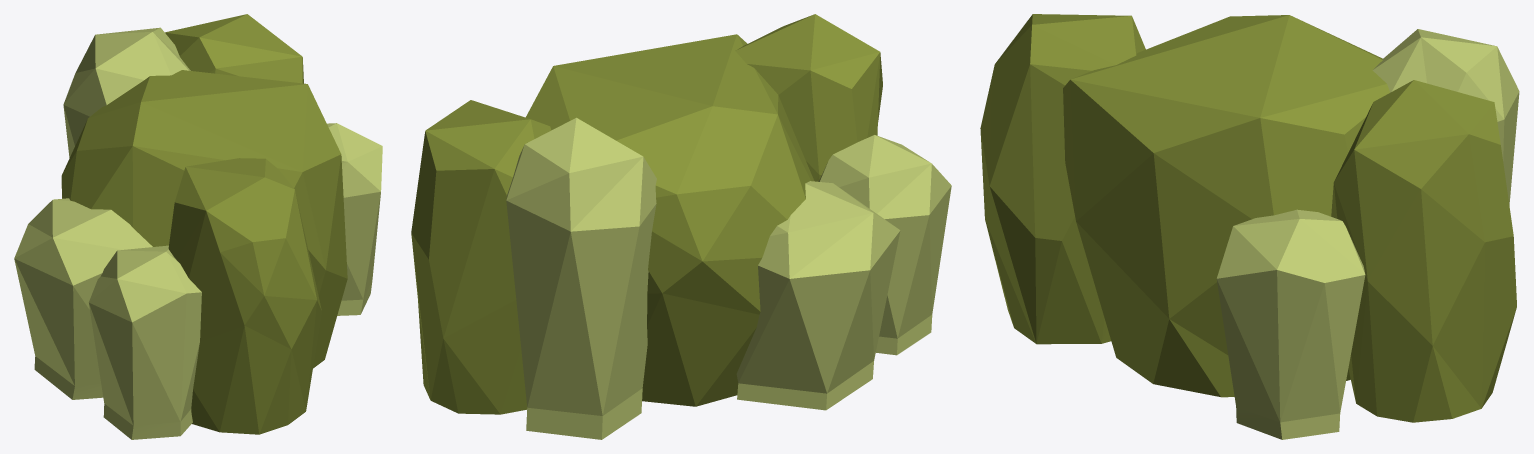
File: ea_swamp_grass_02c_pre__1__lev1.glb
3 views of the same model, side by side, from view 1: azimuth 30°, elevation 25°; view 2: azimuth 150°, elevation 25°; view 3: azimuth 270°, elevation 25° (orthographic). The views are drawn at different scales.
Visible parts, largest first — view 1: ea_swamp_grass_02c_pre__1__lev1; view 2: ea_swamp_grass_02c_pre__1__lev1; view 3: ea_swamp_grass_02c_pre__1__lev1.
Boxes of the visible parts, x1,y1,x2,y2 form: ea_swamp_grass_02c_pre__1__lev1: (14,14,382,439); ea_swamp_grass_02c_pre__1__lev1: (411,14,951,439); ea_swamp_grass_02c_pre__1__lev1: (980,14,1519,439).
Bounding box in the file's own units: 0.8623 × 0.5824 × 0.9062.
1 material, 1 textured.
